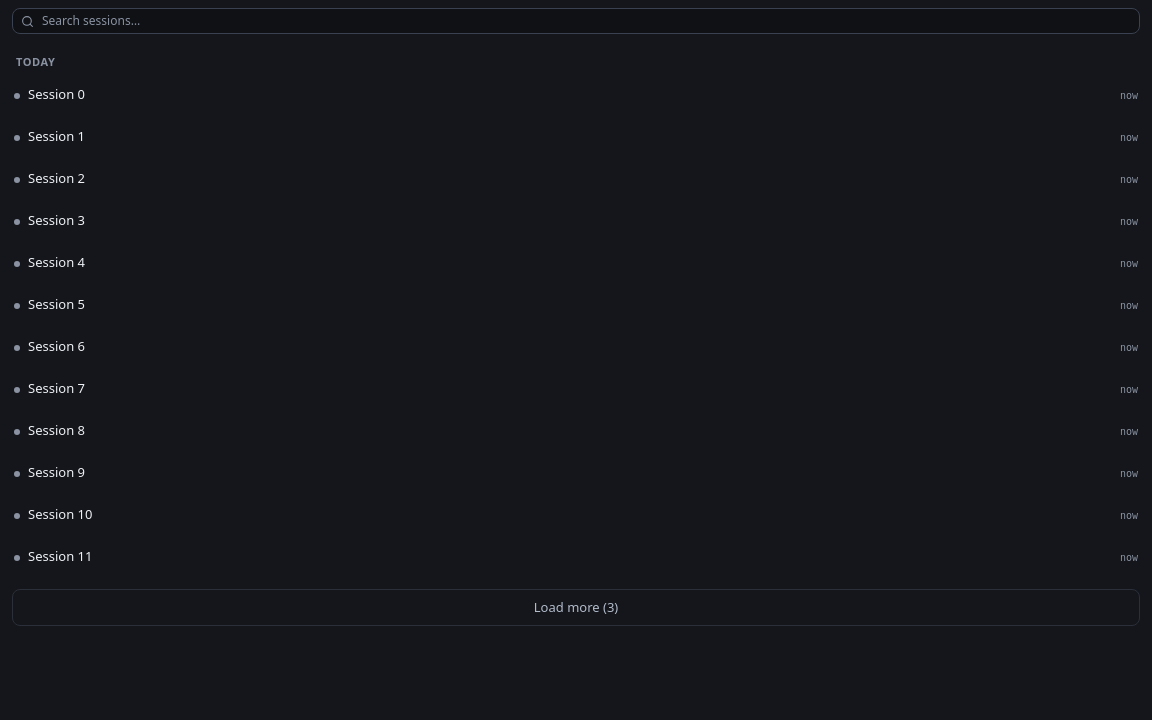
Test case: ConversationList — redesigned Sessions list › caps the history and reveals more rows via Load more
This screenshot has width=1152, height=720.
Expected: the text "Session 14" is not shown
Click the button "Load more (3)": (576, 607) [12, 588, 1140, 626]
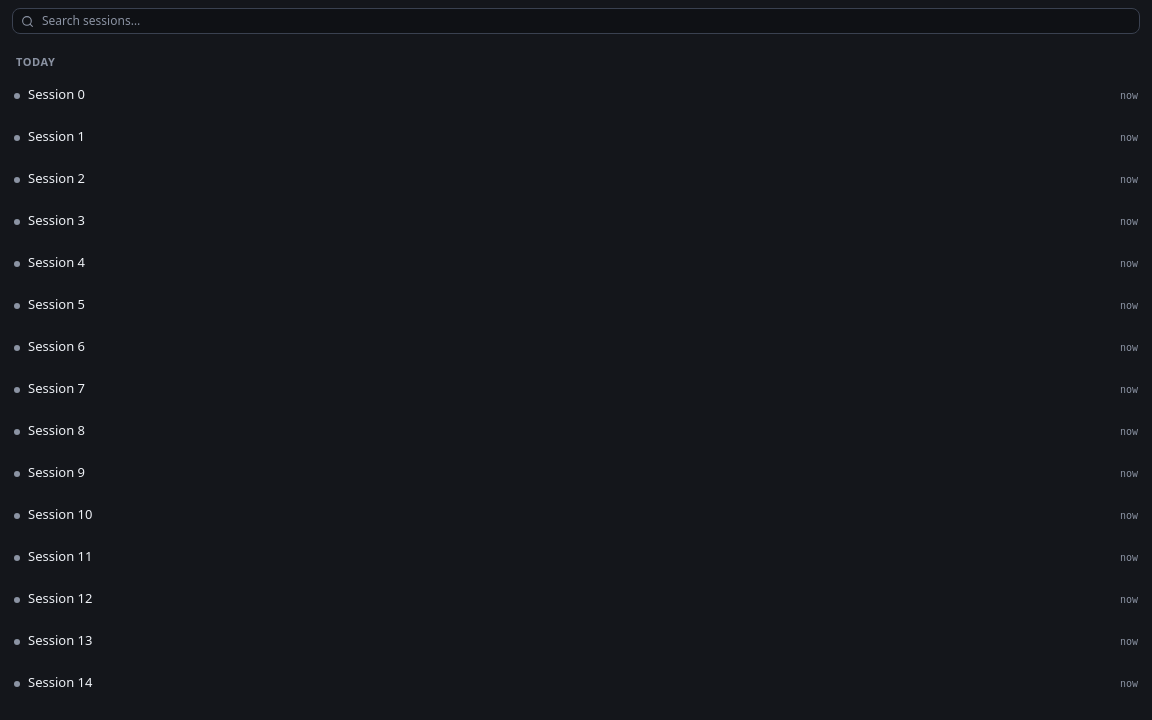
Expected: the text "Session 14" is shown, [28, 672, 92, 690]
